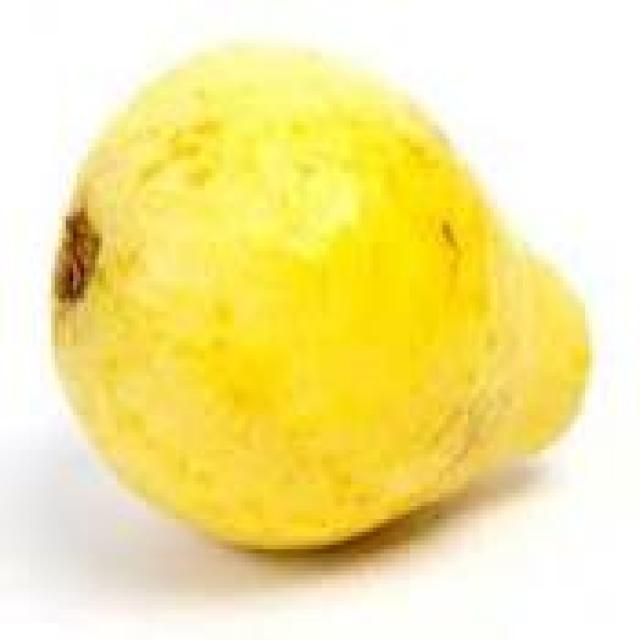guva: (29, 21, 600, 566)
